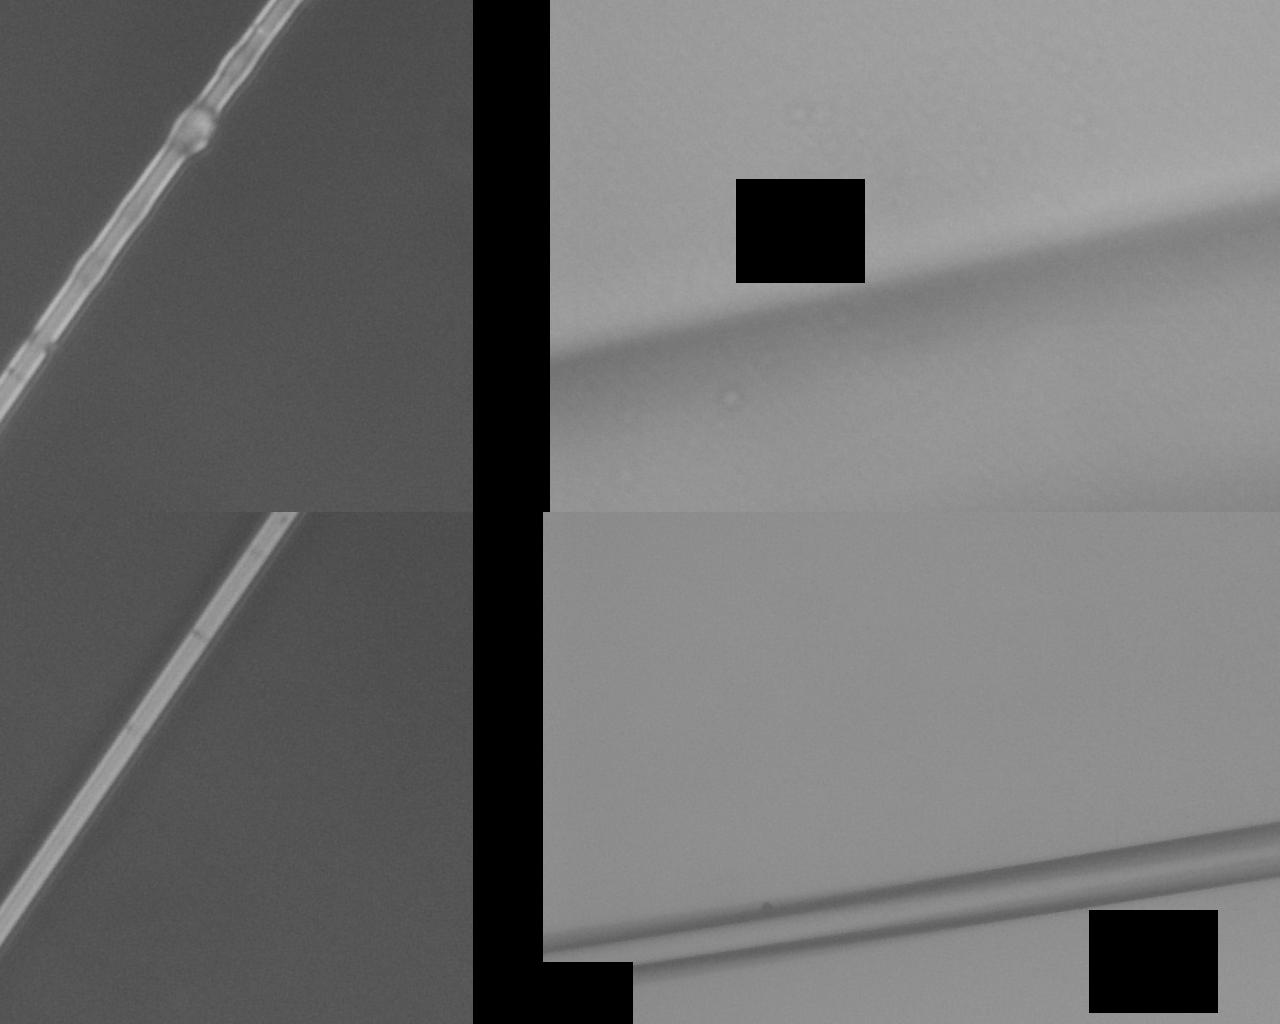fiber: (755, 36, 1026, 594), (37, 0, 755, 203), (0, 594, 341, 656)
